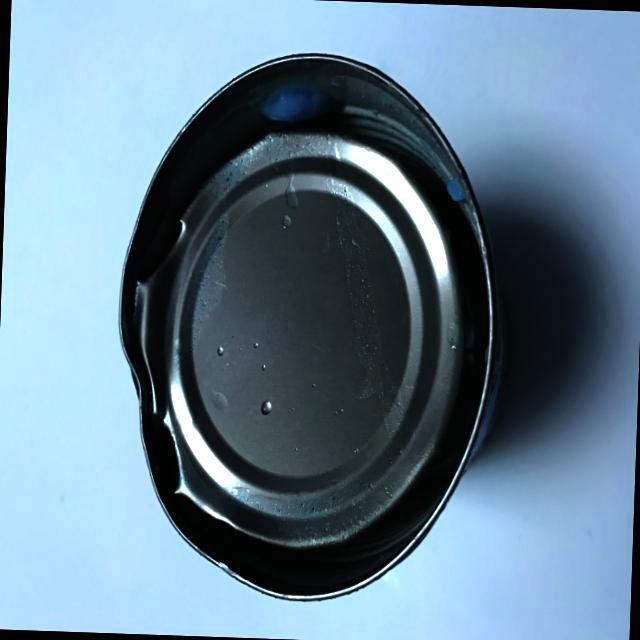metal: (106, 30, 534, 612)
